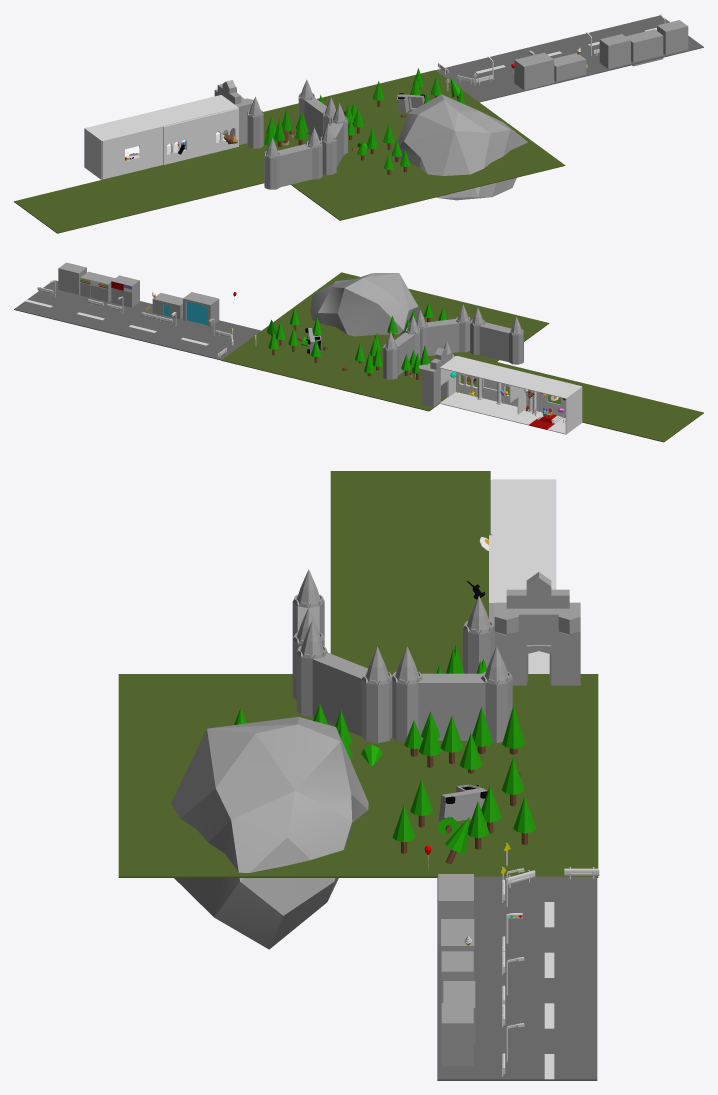
The model's file is Eternal_17v0.7.fbx.
The picture shows the model from 3 angles, top to bottom: view 1: azimuth 30°, elevation 25°; view 2: azimuth 150°, elevation 25°; view 3: azimuth 270°, elevation 25°; orthographic projection. The views are drawn at different scales.
Visible parts, largest first — view 1: eternal17_0003:eternal17:pCube33, eternal17_0003:eternal17:pCube81, eternal17_0003:eternal17:pCube59, eternal17_0003:eternal17:pCube83, eternal17_0003:eternal17:pCube57, eternal17_0003:eternal17:pCube6, eternal17_0003:eternal17:pCube72, eternal17_0003:eternal17:pCube55, eternal17_0003:eternal17:pCube86, eternal17_0003:eternal17:pCube56, eternal17_0003:eternal17:pCube8, pCube79 (+10 smaller); view 2: eternal17_0003:eternal17:pCube33, eternal17_0003:eternal17:pCube83, eternal17_0003:eternal17:pCube59, eternal17_0003:eternal17:pCube81, eternal17_0003:eternal17:pCube57, eternal17_0003:eternal17:pCube55, eternal17_0003:eternal17:pCube56, eternal17_0003:eternal17:pCube38, eternal17_0003:eternal17:pCube72, eternal17_0003:eternal17:pCube71, eternal17_0003:eternal17:pCube86, eternal17_0003:eternal17:pCube8 (+11 smaller); view 3: eternal17_0003:eternal17:pCube33, eternal17_0003:eternal17:pCube59, eternal17_0003:eternal17:pCube81, eternal17_0003:eternal17:pCube83, eternal17_0003:eternal17:pCube56, eternal17_0003:eternal17:pCube38, eternal17_0003:eternal17:pCube55, eternal17_0003:eternal17:pCube8, eternal17_0003:eternal17:pCube72, eternal17_0003:eternal17:pCube99, eternal17_0003:eternal17:pCube57, eternal17_0003:eternal17:pCube39 (+4 smaller).
Boxes of the visible parts, left/top/right/bottom form: eternal17_0003:eternal17:pCube33: left=218, top=70, right=565, bottom=220; eternal17_0003:eternal17:pCube81: left=14, top=146, right=264, bottom=233; eternal17_0003:eternal17:pCube59: left=397, top=94, right=527, bottom=200; eternal17_0003:eternal17:pCube83: left=436, top=15, right=703, bottom=102; eternal17_0003:eternal17:pCube57: left=264, top=127, right=322, bottom=189; eternal17_0003:eternal17:pCube6: left=102, top=126, right=162, bottom=179; eternal17_0003:eternal17:pCube72: left=146, top=95, right=237, bottom=126; eternal17_0003:eternal17:pCube55: left=320, top=103, right=347, bottom=175; eternal17_0003:eternal17:pCube86: left=514, top=52, right=554, bottom=90; eternal17_0003:eternal17:pCube56: left=298, top=79, right=335, bottom=140; eternal17_0003:eternal17:pCube8: left=85, top=113, right=161, bottom=140; pCube79: left=626, top=29, right=663, bottom=66; eternal17_0003:eternal17:pCube33: left=221, top=272, right=549, bottom=411; eternal17_0003:eternal17:pCube83: left=14, top=280, right=261, bottom=360; eternal17_0003:eternal17:pCube59: left=310, top=273, right=419, bottom=336; eternal17_0003:eternal17:pCube81: left=466, top=362, right=703, bottom=442; eternal17_0003:eternal17:pCube57: left=470, top=307, right=523, bottom=364; eternal17_0003:eternal17:pCube55: left=416, top=304, right=470, bottom=357; eternal17_0003:eternal17:pCube56: left=383, top=315, right=420, bottom=379; eternal17_0003:eternal17:pCube38: left=419, top=347, right=454, bottom=407; eternal17_0003:eternal17:pCube72: left=440, top=356, right=524, bottom=385; eternal17_0003:eternal17:pCube71: left=440, top=392, right=517, bottom=420; eternal17_0003:eternal17:pCube86: left=183, top=292, right=219, bottom=326; eternal17_0003:eternal17:pCube8: left=510, top=373, right=581, bottom=398; eternal17_0003:eternal17:pCube33: left=118, top=674, right=598, bottom=877; eternal17_0003:eternal17:pCube59: left=171, top=717, right=368, bottom=949; eternal17_0003:eternal17:pCube81: left=330, top=471, right=490, bottom=673; eternal17_0003:eternal17:pCube83: left=437, top=876, right=597, bottom=1080; eternal17_0003:eternal17:pCube56: left=392, top=646, right=512, bottom=742; eternal17_0003:eternal17:pCube38: left=494, top=572, right=580, bottom=685; eternal17_0003:eternal17:pCube55: left=296, top=620, right=392, bottom=742; eternal17_0003:eternal17:pCube8: left=492, top=479, right=556, bottom=533; eternal17_0003:eternal17:pCube72: left=492, top=534, right=556, bottom=602; eternal17_0003:eternal17:pCube99: left=441, top=1003, right=473, bottom=1066; eternal17_0003:eternal17:pCube57: left=292, top=569, right=324, bottom=700; eternal17_0003:eternal17:pCube39: left=463, top=596, right=494, bottom=673.
Bounding box in the file's own units: 900 × 132 × 301.
